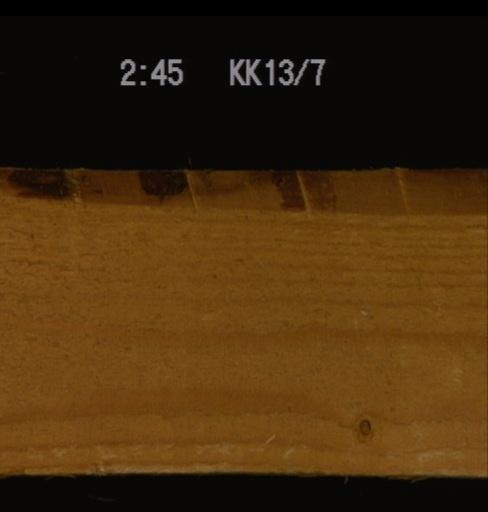dry_knot: (353, 414, 372, 435)
wave: (0, 168, 486, 215)
